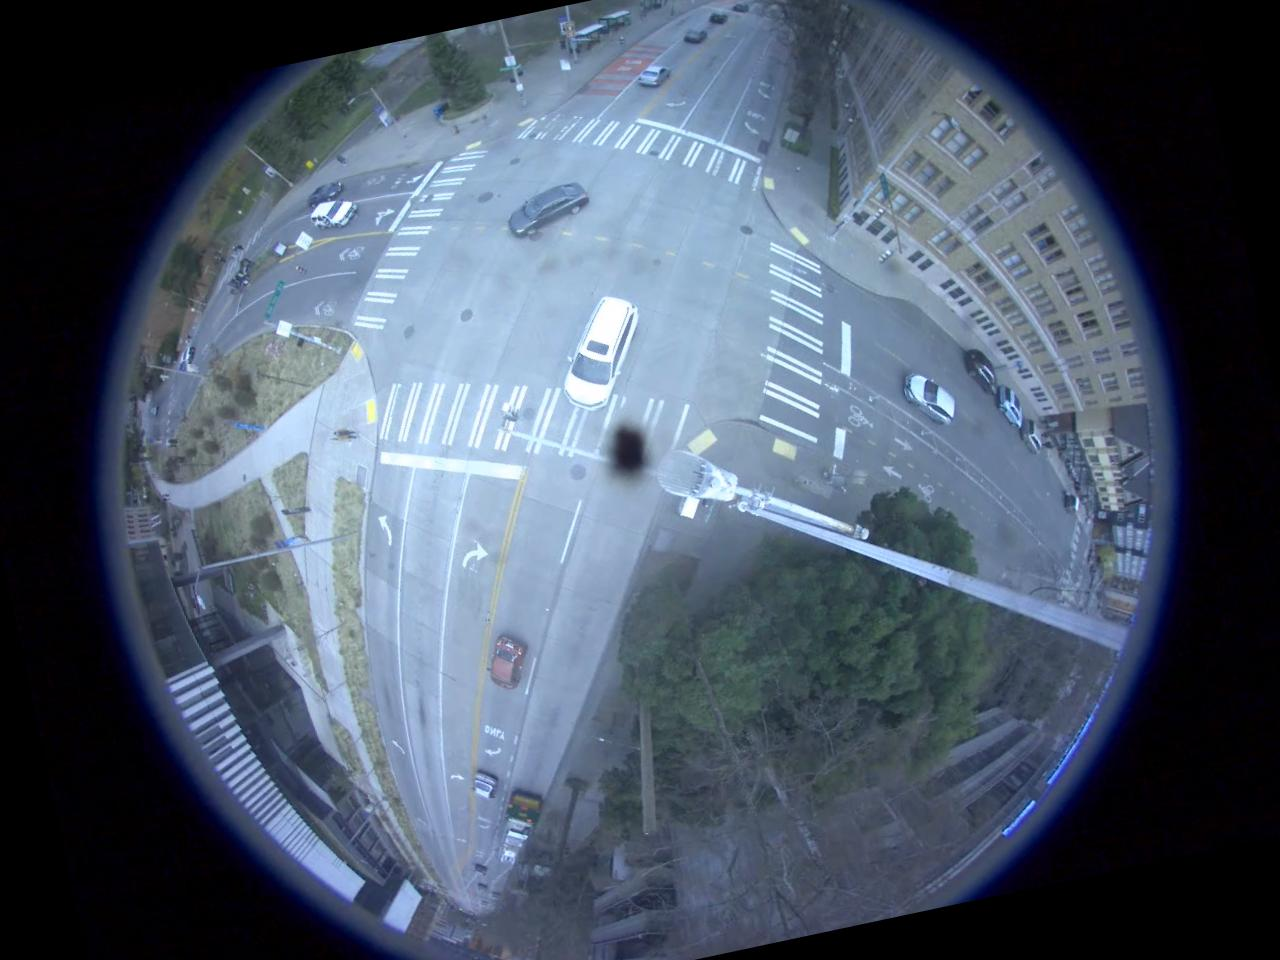bus: (484, 783, 552, 868)
car: (543, 287, 655, 420), (499, 180, 595, 242), (896, 367, 958, 432), (482, 630, 533, 696), (308, 194, 361, 233), (300, 176, 352, 212), (629, 57, 674, 94), (966, 348, 999, 398), (994, 384, 1026, 431), (469, 764, 503, 806), (1019, 420, 1046, 458), (706, 6, 732, 28), (682, 26, 706, 46)
person: (326, 420, 359, 448)
